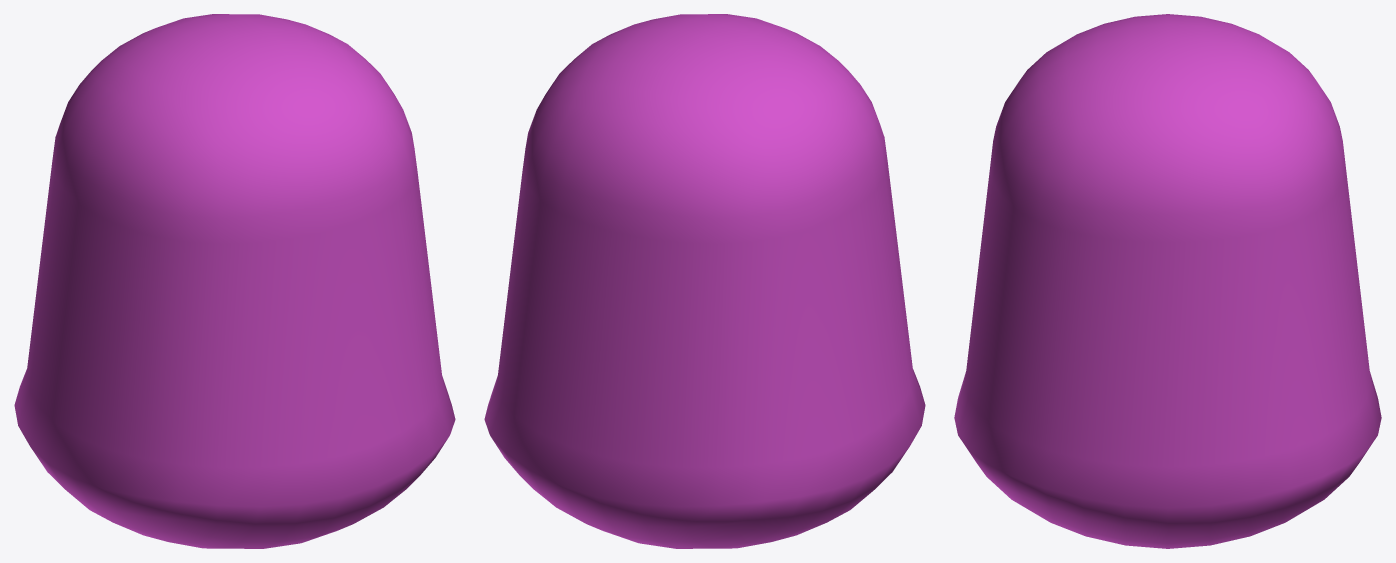
The model's file is Huegel4.fbx.
3 views of the same model, side by side, from view 1: azimuth 30°, elevation 25°; view 2: azimuth 150°, elevation 25°; view 3: azimuth 270°, elevation 25° (orthographic).
Parts seen in each view (by area): view 1: pCube135; view 2: pCube135; view 3: pCube135.
Boxes of the visible parts, <box> form: pCube135: <box>14,14,455,548</box>; pCube135: <box>484,14,925,548</box>; pCube135: <box>954,14,1381,548</box>.
Bounding box in the file's own units: 41 × 51 × 41.
